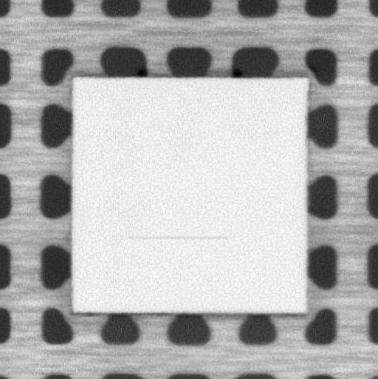DIE_CRACK: (129, 232, 227, 242)
